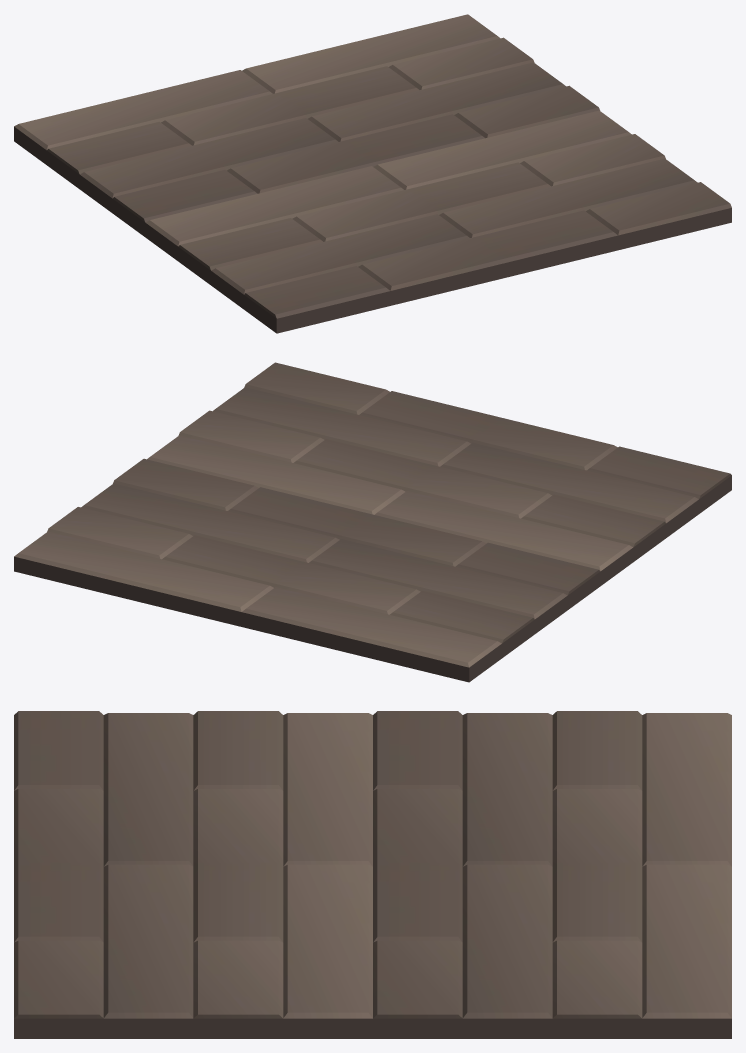
Rendered from floor-wood-large-dark-gltf.glb.
3 renders of one model, top to bottom at view 1: azimuth 30°, elevation 25°; view 2: azimuth 150°, elevation 25°; view 3: azimuth 270°, elevation 25°, orthographic. The views are drawn at different scales.
Parts seen in each view (by area): view 1: floor_wood_large_dark; view 2: floor_wood_large_dark; view 3: floor_wood_large_dark.
Part boxes in pixels (x1,y1,x2,y2): floor_wood_large_dark: (14,14,731,333); floor_wood_large_dark: (14,362,731,682); floor_wood_large_dark: (14,711,731,1038).
Bounding box in the file's own units: 4 × 0.1499 × 4.
Materials: 1 (1 with a texture image).
